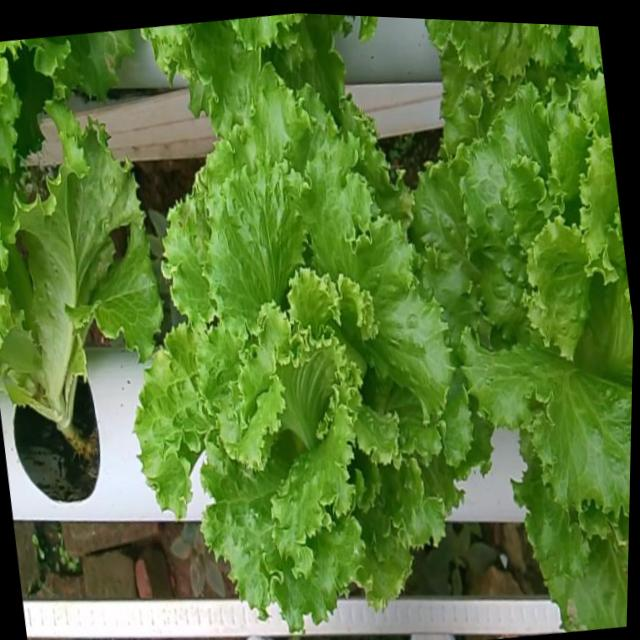Mature: (143, 95, 481, 637), (421, 92, 633, 530)
